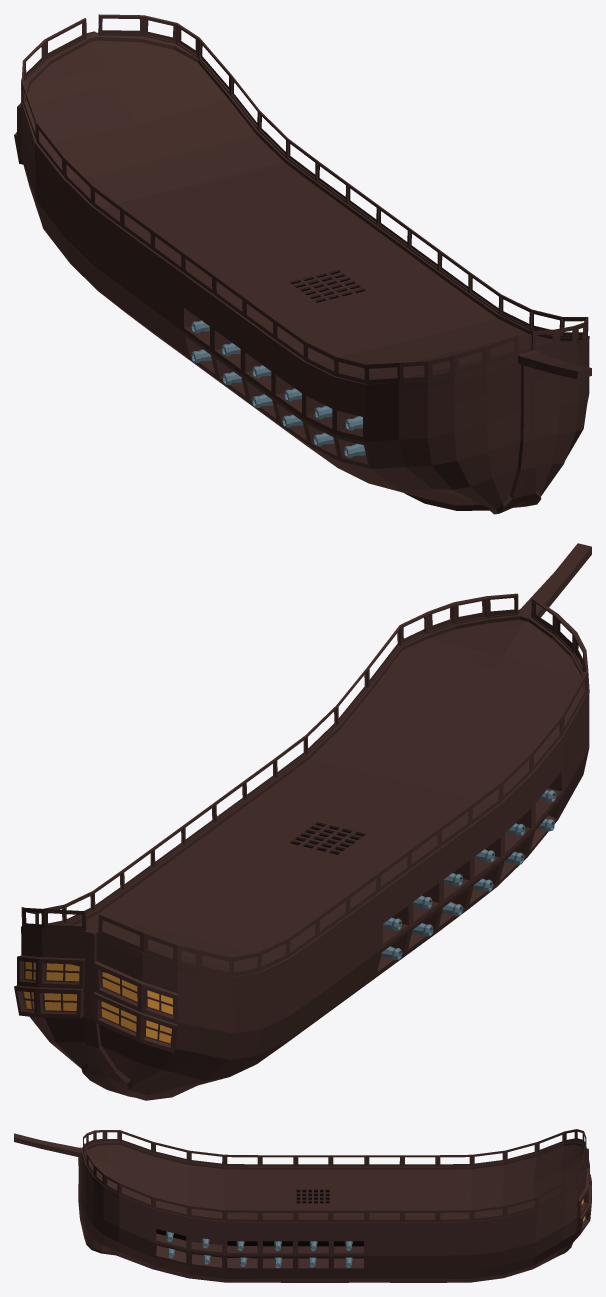
File: ShipHighlight.fbx
3 views of the same model, one above another, from view 1: azimuth 30°, elevation 25°; view 2: azimuth 150°, elevation 25°; view 3: azimuth 270°, elevation 25° (orthographic). The views are drawn at different scales.
Visible parts, largest first — view 1: Cube; view 2: Cube; view 3: Cube.
Part boxes in pixels (x1,y1,x2,y2): Cube: (14,14,591,514); Cube: (14,543,591,1100); Cube: (14,1129,591,1282).
Bounding box in the file's own units: 208 × 240 × 868.
